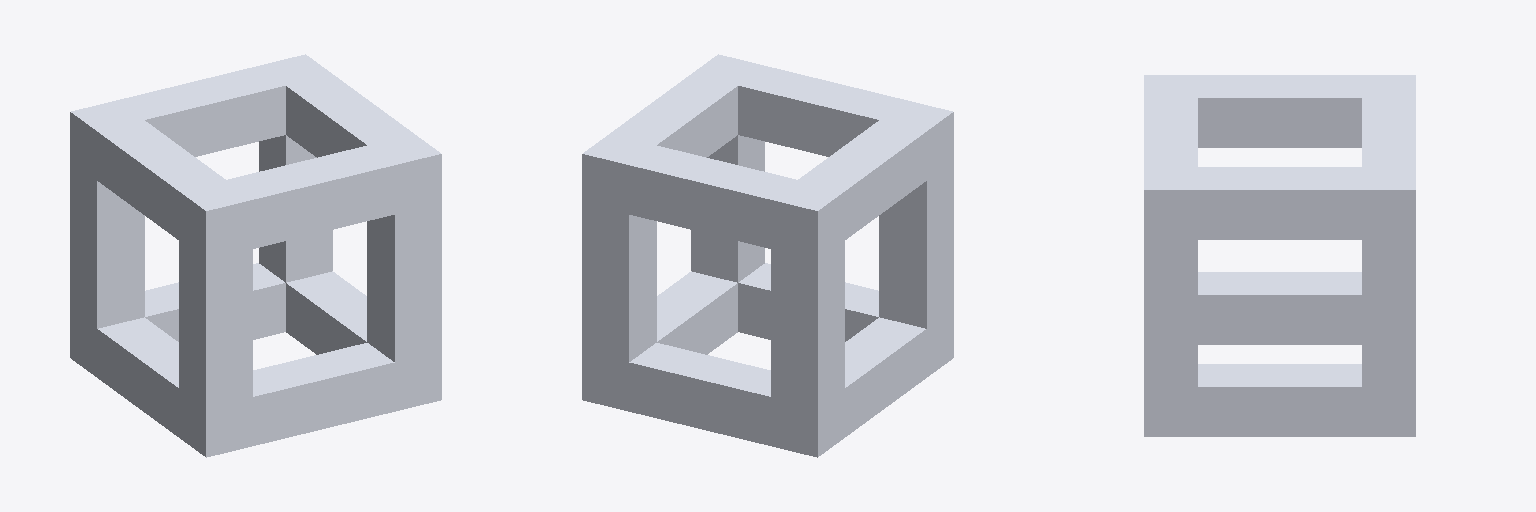
3 views of the same model, side by side, from view 1: azimuth 30°, elevation 25°; view 2: azimuth 150°, elevation 25°; view 3: azimuth 270°, elevation 25° (orthographic).
Visible parts, largest first — view 1: mergedBlocks; view 2: mergedBlocks; view 3: mergedBlocks.
Part boxes in pixels (x1,y1,x2,y2): mergedBlocks: (70,54,441,457); mergedBlocks: (582,54,953,457); mergedBlocks: (1144,75,1415,436).
Size of the model in its own units: 1 by 1 by 1.